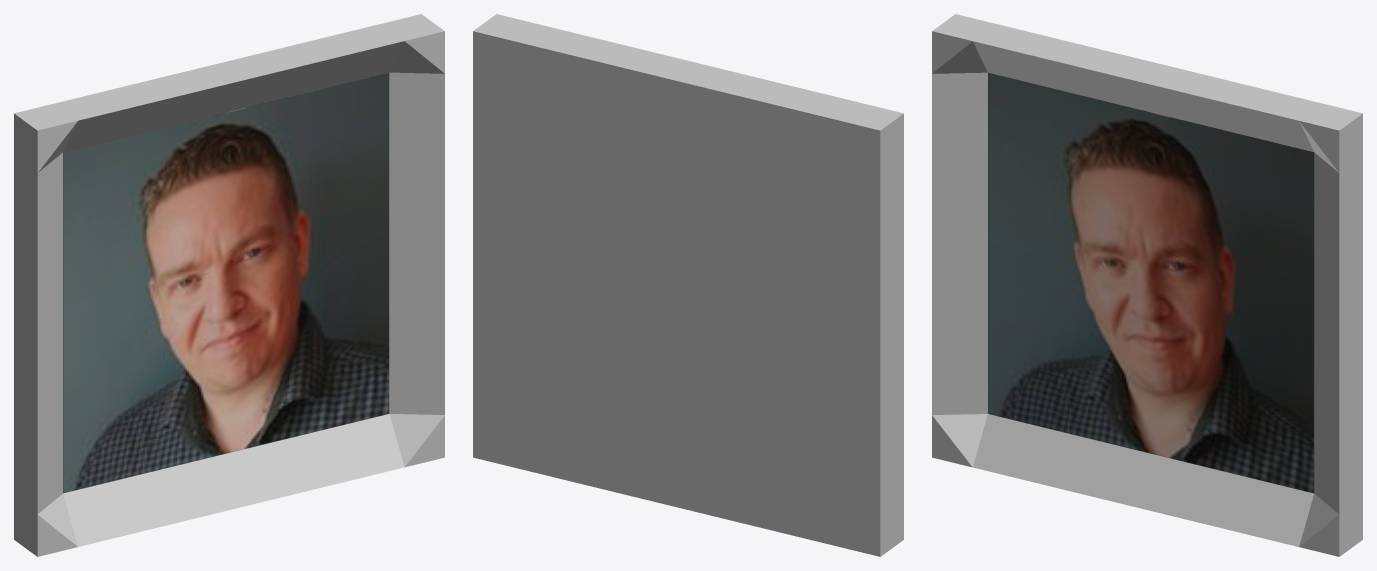
File: avatar_0001_01.dae
3 views of the same model, side by side, from view 1: azimuth 30°, elevation 25°; view 2: azimuth 150°, elevation 25°; view 3: azimuth 330°, elevation 25° (orthographic).
Parts seen in each view (by area): view 1: Cube; view 2: Cube; view 3: Cube.
Part boxes in pixels (x1,y1,x2,y2): Cube: (14,14,444,556); Cube: (473,14,903,556); Cube: (932,14,1362,556).
Size of the model in its own units: 1 by 0.1 by 1.
Materials: 2 (1 with a texture image).
